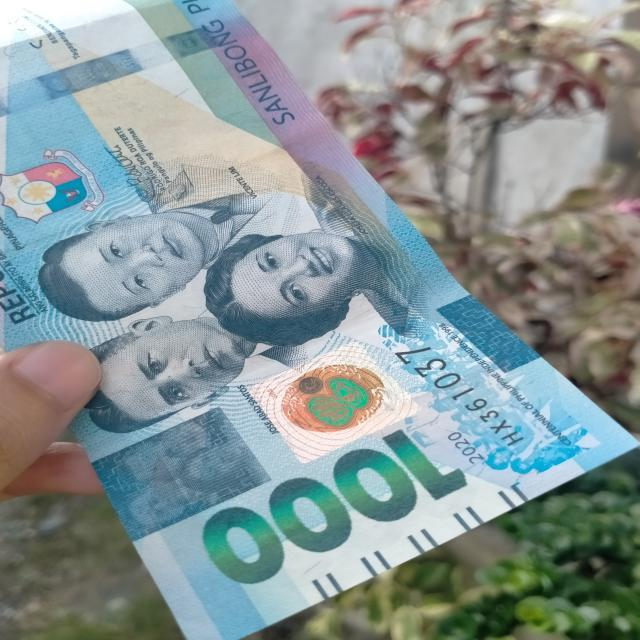concealed_value: (89, 404, 272, 542)
optically_variable_device: (251, 342, 418, 461)
serial_number: (390, 340, 534, 447)
